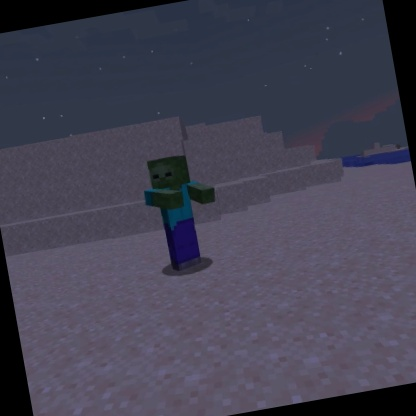zombie: (134, 146, 232, 278)
